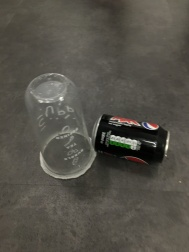can_black: (92, 102, 179, 176)
